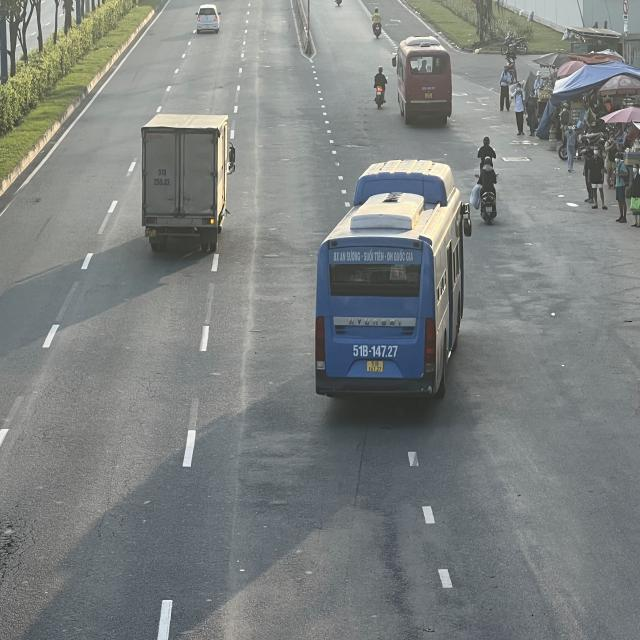car: (196, 5, 221, 35)
coach: (316, 163, 470, 407), (394, 37, 453, 124)
truck: (144, 112, 238, 249)
